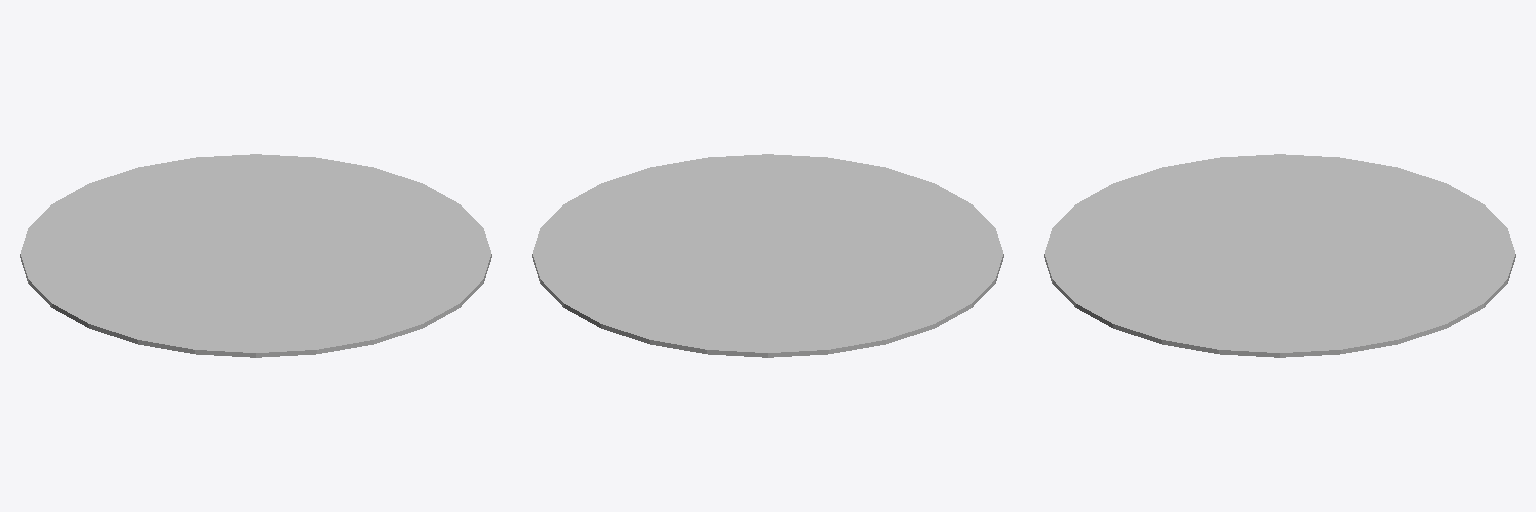
Rendered from rugRound.obj.
3 views of the same model, side by side, from view 1: azimuth 30°, elevation 25°; view 2: azimuth 150°, elevation 25°; view 3: azimuth 270°, elevation 25° (orthographic).
Visible parts, largest first — view 1: rugRound; view 2: rugRound; view 3: rugRound.
Part boxes in pixels (x1,y1,x2,y2): rugRound: (20, 154, 491, 357); rugRound: (532, 154, 1003, 357); rugRound: (1044, 154, 1515, 357).
Size of the model in its own units: 0.92 by 0.01 by 0.92.